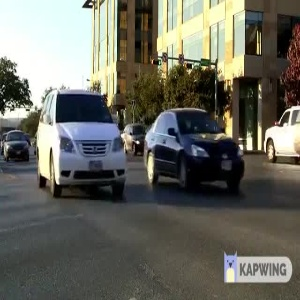car: (138, 107, 248, 194)
van: (31, 84, 124, 198)
